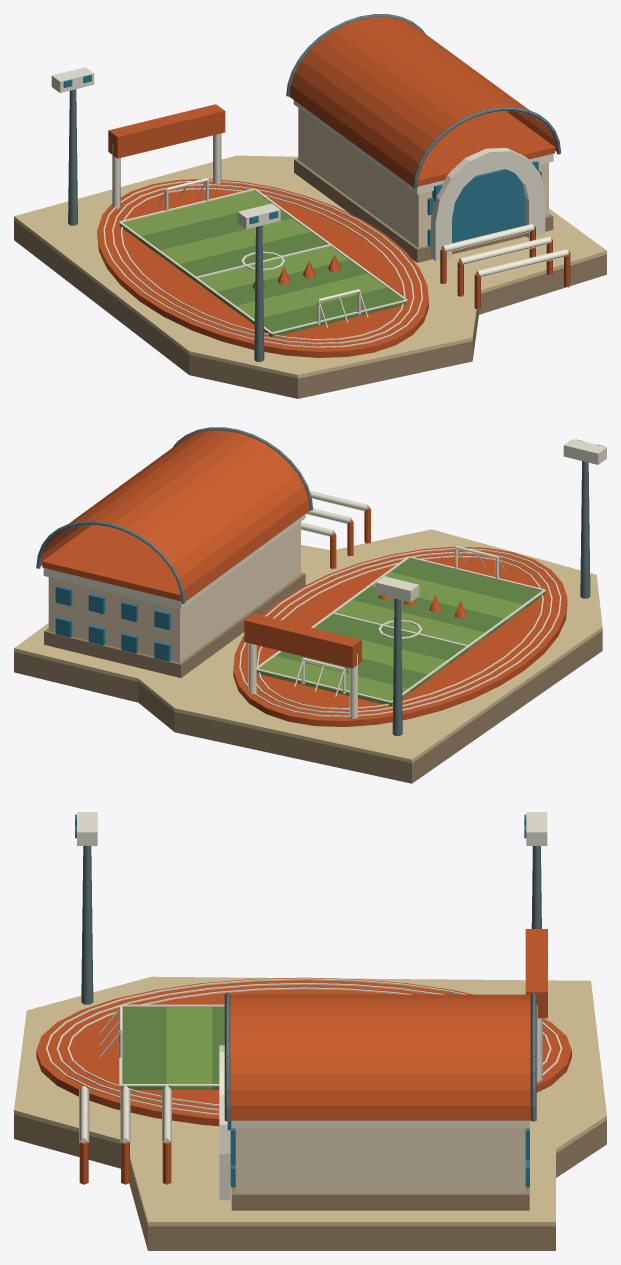
Rendered from training-center-lv2.glb.
3 renders of one model, top to bottom at view 1: azimuth 30°, elevation 25°; view 2: azimuth 150°, elevation 25°; view 3: azimuth 270°, elevation 25°, orthographic. The views are drawn at different scales.
Visible parts, largest first — view 1: foundation_sand, gym_barrel_roof_orange, running_track_orange, foundation_stoneDark, pitch_grassLight, pitch_grass, training_hall_cream, gym_front_arch_white, running_lanes_white, training_hall_roof_orange, gym_front_glass, timing_gate_orange (+10 smaller); view 2: gym_barrel_roof_orange, foundation_sand, running_track_orange, foundation_stoneDark, training_hall_cream, pitch_grass, pitch_grassLight, training_hall_roof_orange, running_lanes_white, training_hall_stoneDark, timing_gate_orange, training_hall_windows_glass (+9 smaller); view 3: gym_barrel_roof_orange, foundation_sand, training_hall_cream, foundation_stoneDark, running_track_orange, training_hall_stoneDark, pitch_grass, running_lanes_white, pitch_grassLight, training_hall_white, lighting_iron, gym_barrel_roof_ribs_iron (+6 smaller).
Part boxes in pixels (left/top/right/bottom): foundation_sand: left=14, top=155, right=606, bottom=378; gym_barrel_roof_orange: left=289, top=17, right=556, bottom=186; running_track_orange: left=97, top=179, right=428, bottom=357; foundation_stoneDark: left=14, top=220, right=606, bottom=398; pitch_grassLight: left=119, top=190, right=386, bottom=323; pitch_grass: left=138, top=210, right=406, bottom=337; training_hall_cream: left=298, top=108, right=548, bottom=247; gym_front_arch_white: left=431, top=148, right=545, bottom=260; running_lanes_white: left=103, top=180, right=422, bottom=347; training_hall_roof_orange: left=417, top=111, right=555, bottom=186; gym_front_glass: left=432, top=161, right=538, bottom=242; timing_gate_orange: left=108, top=104, right=225, bottom=158; gym_barrel_roof_orange: left=40, top=430, right=309, bottom=601; foundation_sand: left=14, top=529, right=602, bottom=762; running_track_orange: left=233, top=546, right=567, bottom=726; foundation_stoneDark: left=14, top=630, right=602, bottom=783; training_hall_cream: left=48, top=522, right=300, bottom=662; pitch_grass: left=276, top=558, right=544, bottom=691; pitch_grassLight: left=256, top=572, right=525, bottom=706; training_hall_roof_orange: left=42, top=525, right=181, bottom=601; running_lanes_white: left=239, top=548, right=561, bottom=717; training_hall_stoneDark: left=44, top=573, right=305, bottom=677; timing_gate_orange: left=244, top=613, right=361, bottom=668; training_hall_windows_glass: left=55, top=585, right=170, bottom=661; gym_barrel_roof_orange: left=230, top=994, right=530, bottom=1120; foundation_sand: left=14, top=976, right=606, bottom=1226; training_hall_cream: left=235, top=1128, right=525, bottom=1192; foundation_stoneDark: left=14, top=1114, right=606, bottom=1250; running_track_orange: left=36, top=977, right=571, bottom=1126; training_hall_stoneDark: left=231, top=1187, right=529, bottom=1210; pitch_grass: left=120, top=1007, right=224, bottom=1089; running_lanes_white: left=46, top=978, right=562, bottom=1115; pitch_grassLight: left=166, top=1007, right=212, bottom=1089; training_hall_white: left=231, top=1120, right=529, bottom=1128; lighting_iron: left=81, top=846, right=541, bottom=1004; gym_barrel_roof_ribs_iron: left=224, top=992, right=536, bottom=1121.
Size of the model in its own units: 0.9785 by 0.389 by 1.
